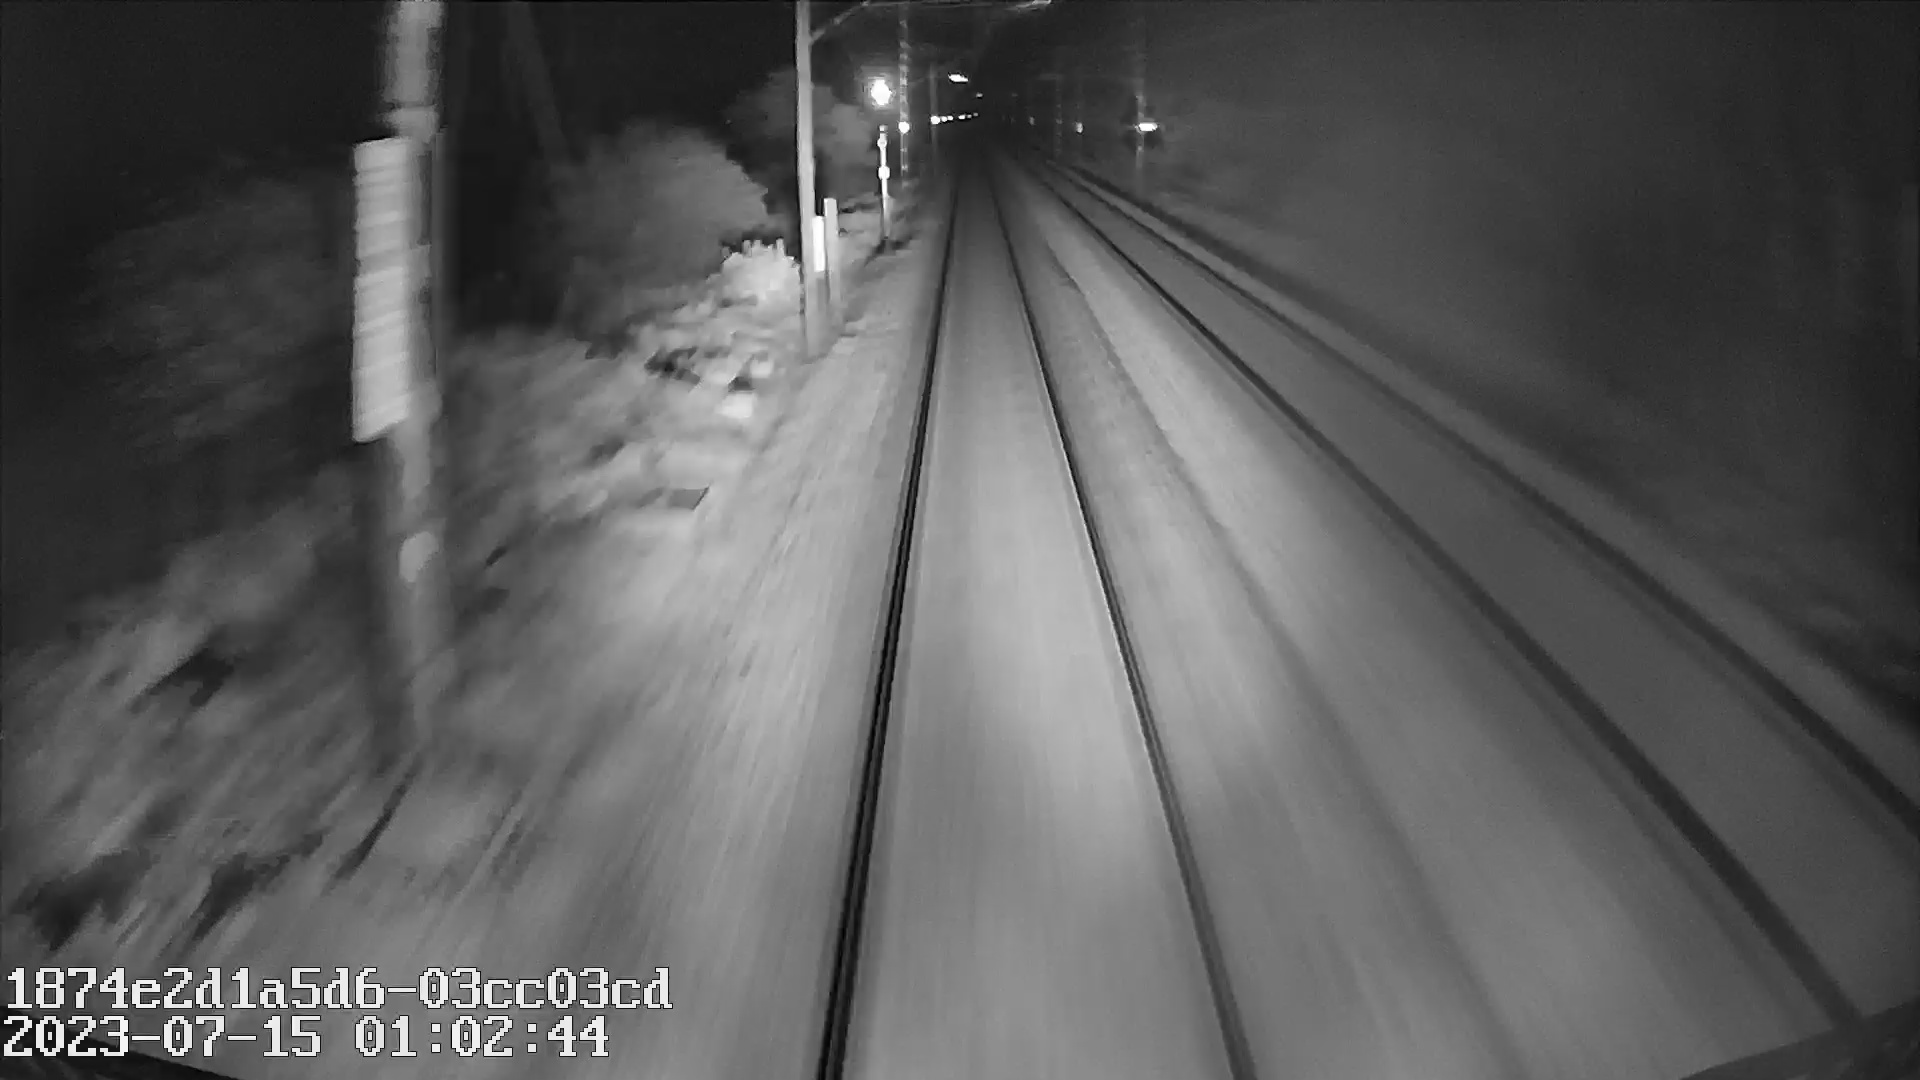track1: (834, 171, 1241, 1055)
track2: (1067, 186, 1899, 969)
